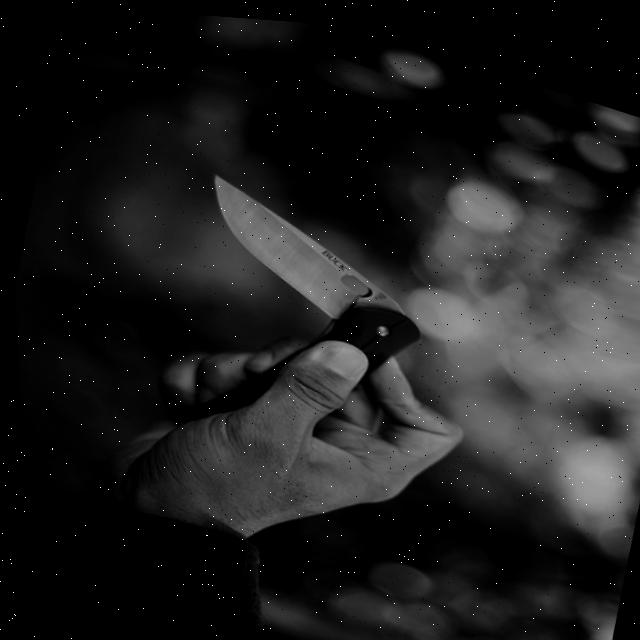knife: (170, 155, 472, 382)
